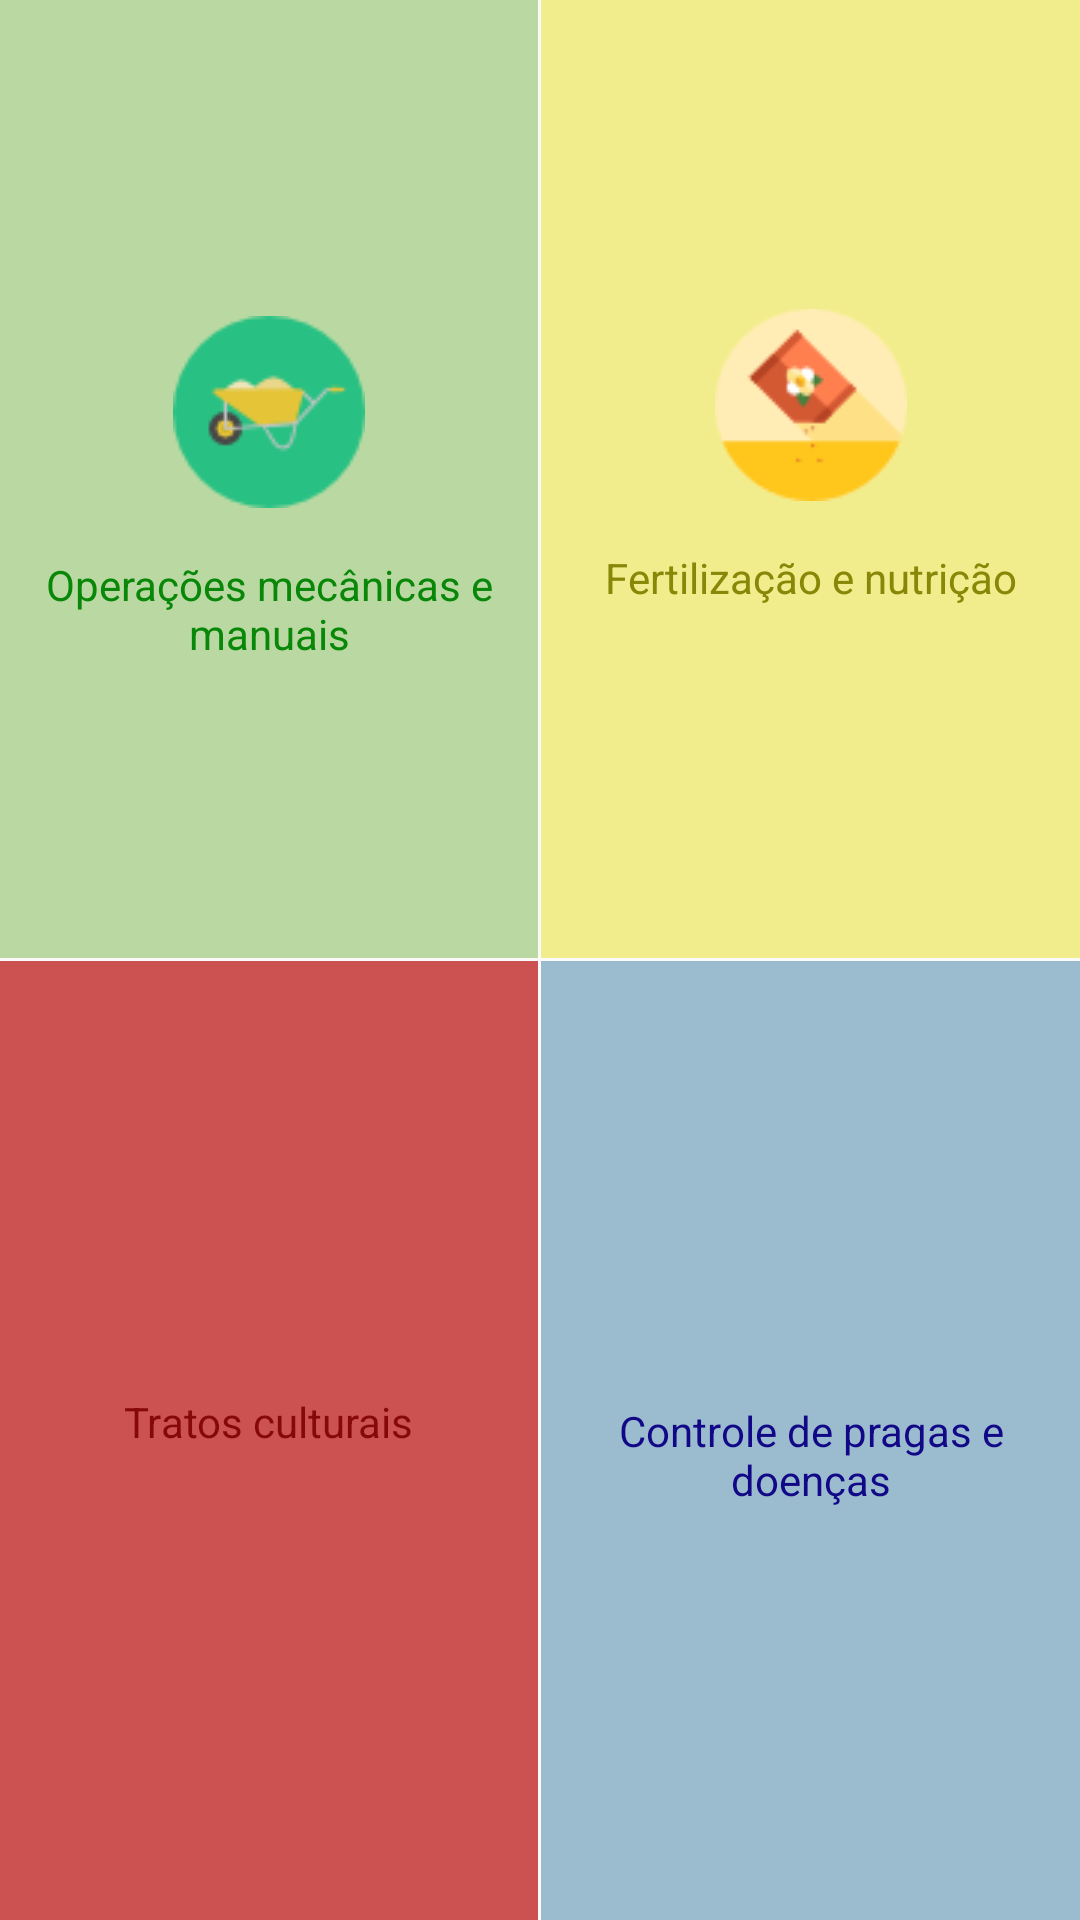

Where to tap for icons on this 1080x1920 app screen, as (x=x, y=y):
fertilizer: (x=811, y=405)
wheelbarrow: (x=269, y=412)
